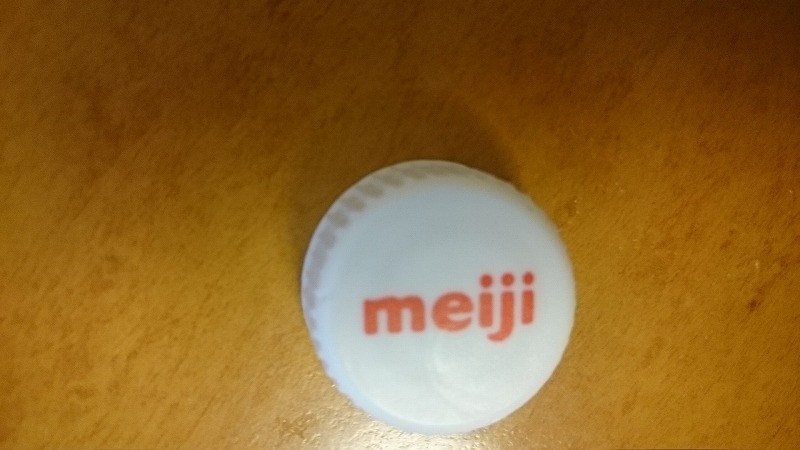B: (292, 152, 581, 442)
